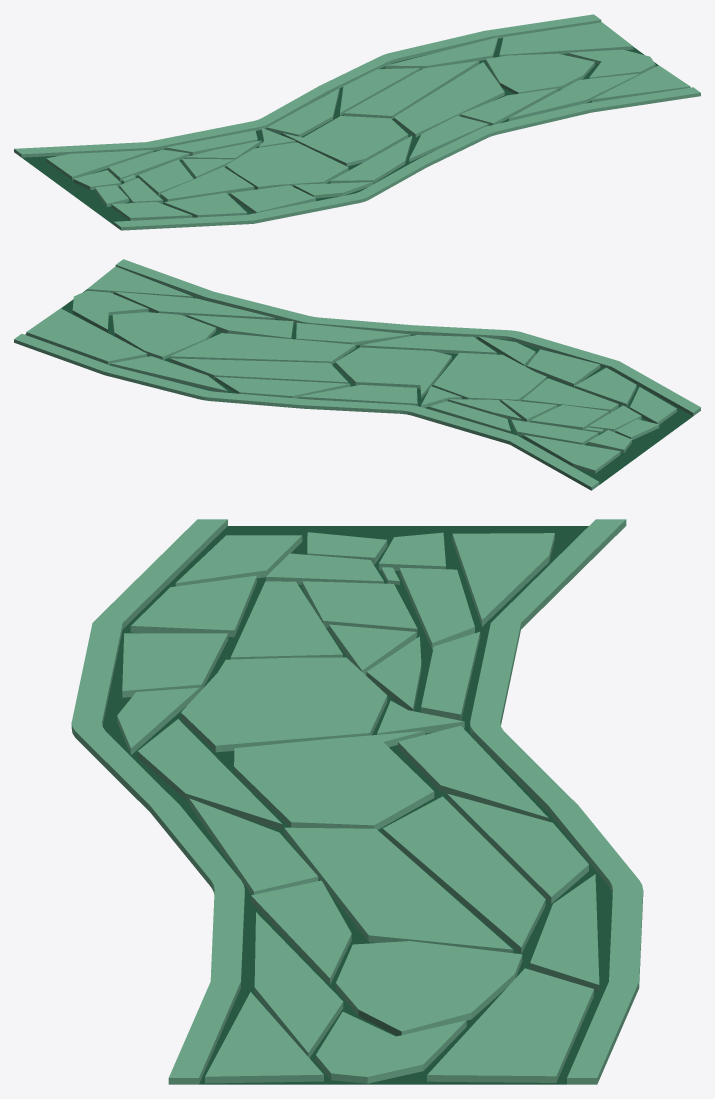
Rendered from musteriyolu.fbx.
The picture shows the model from 3 angles, top to bottom: view 1: azimuth 30°, elevation 25°; view 2: azimuth 150°, elevation 25°; view 3: azimuth 270°, elevation 25°; orthographic projection. The views are drawn at different scales.
Visible parts, largest first — view 1: musteriyolu; view 2: musteriyolu; view 3: musteriyolu.
Part boxes in pixels (x1,y1,x2,y2): musteriyolu: (14,14,700,230); musteriyolu: (14,259,700,490); musteriyolu: (71,519,643,1084).
Size of the model in its own units: 1484 by 8.35 by 641.
